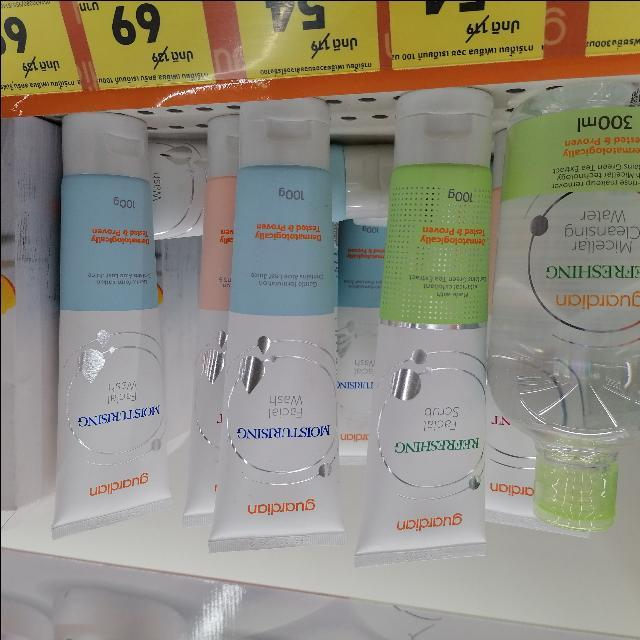Squeeze Tube: (186, 87, 352, 559), (364, 73, 498, 586), (501, 82, 636, 558), (48, 89, 176, 551)
